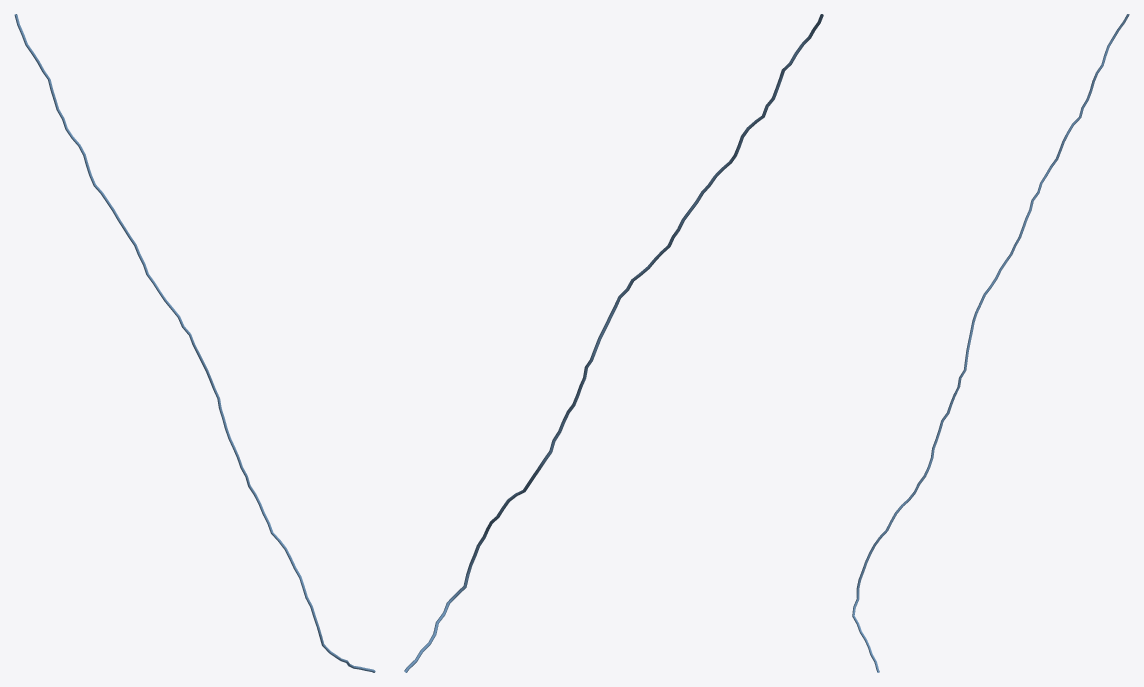
File: sweep257.fbx
3 views of the same model, side by side, from view 1: azimuth 30°, elevation 25°; view 2: azimuth 210°, elevation 25°; view 3: azimuth 270°, elevation 25° (orthographic). The views are drawn at different scales.
Visible parts, largest first — view 1: sweep257; view 2: sweep257; view 3: sweep257.
Boxes of the visible parts, <box> form: sweep257: <box>14,14,375,672</box>; sweep257: <box>404,14,823,672</box>; sweep257: <box>852,14,1129,672</box>.
Size of the model in its own units: 1.75 by 4.58 by 2.06.
